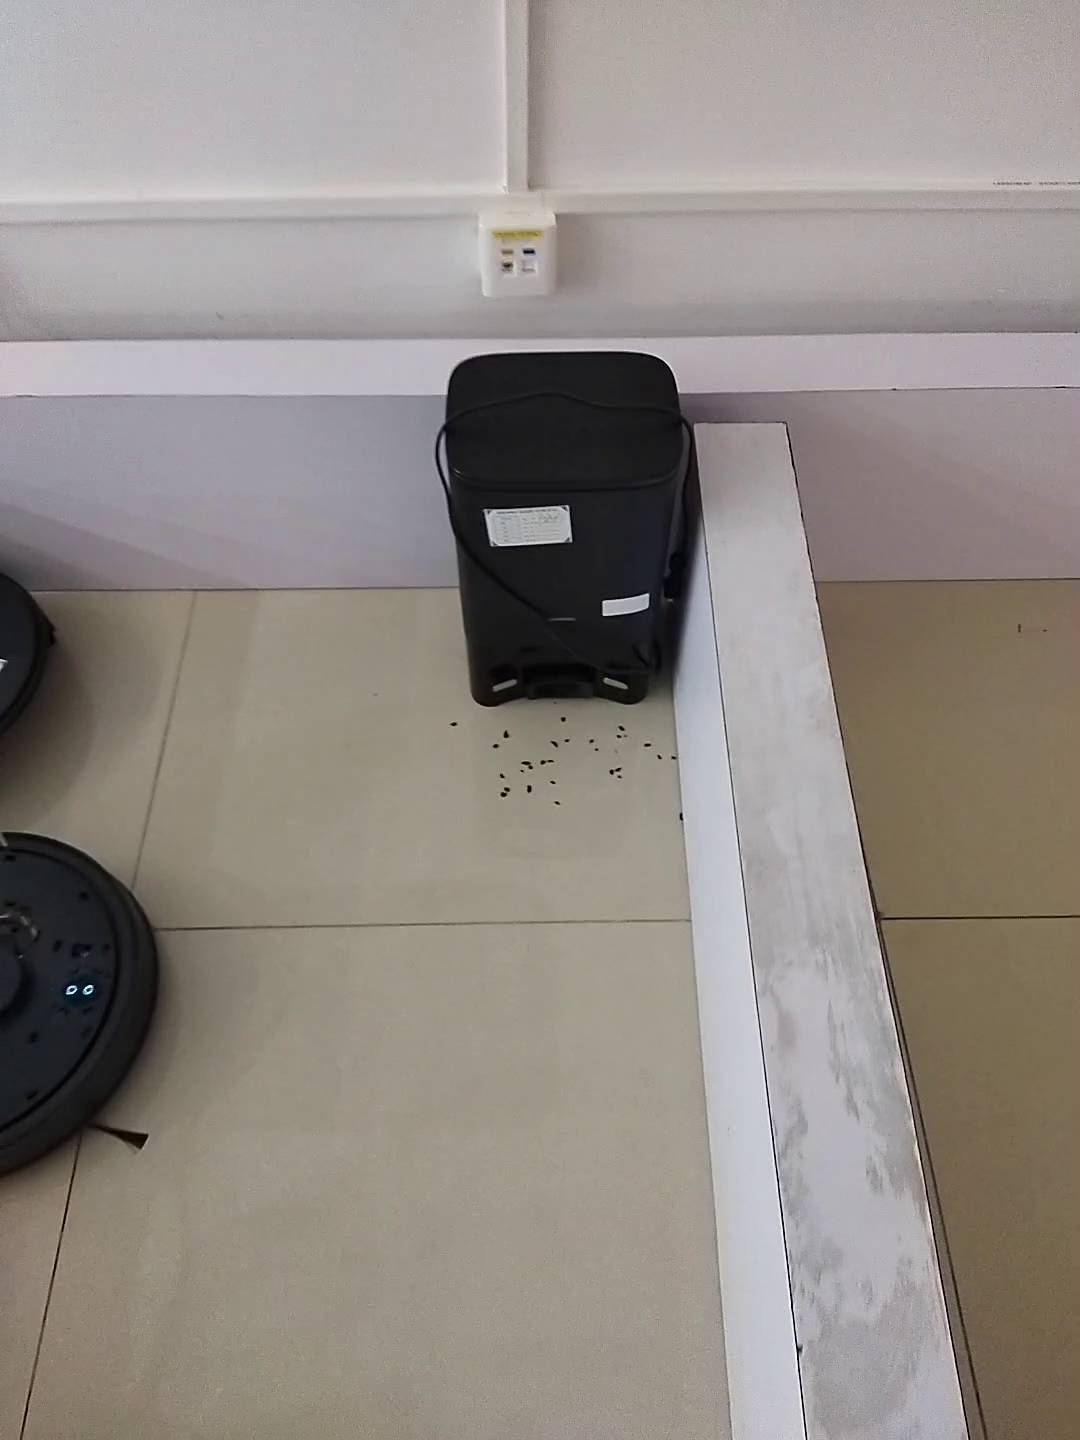dust collecting barrel: (446, 351, 680, 708)
